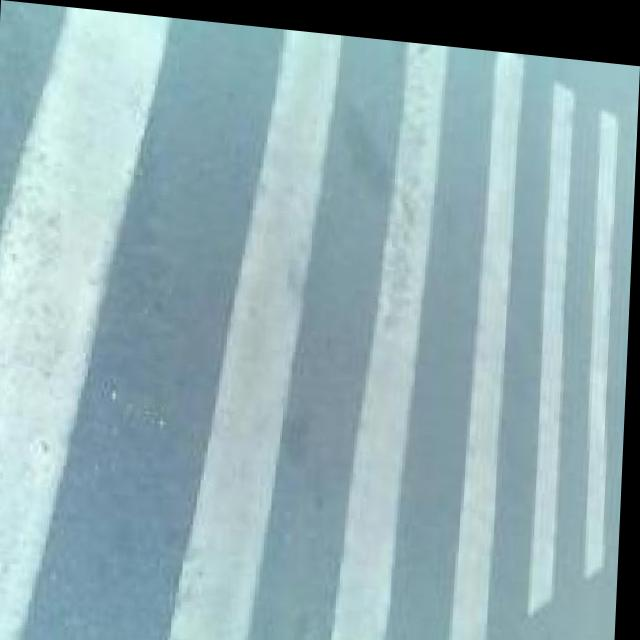zebra: (3, 56, 628, 580)
